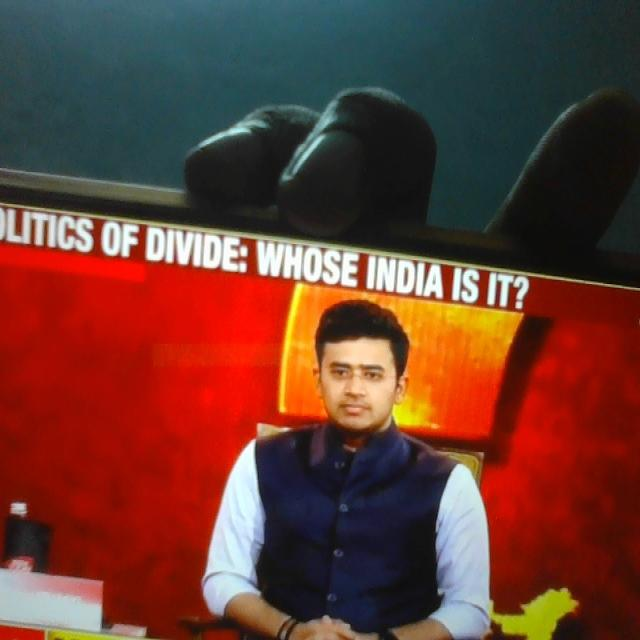fake: (305, 272, 405, 461)
